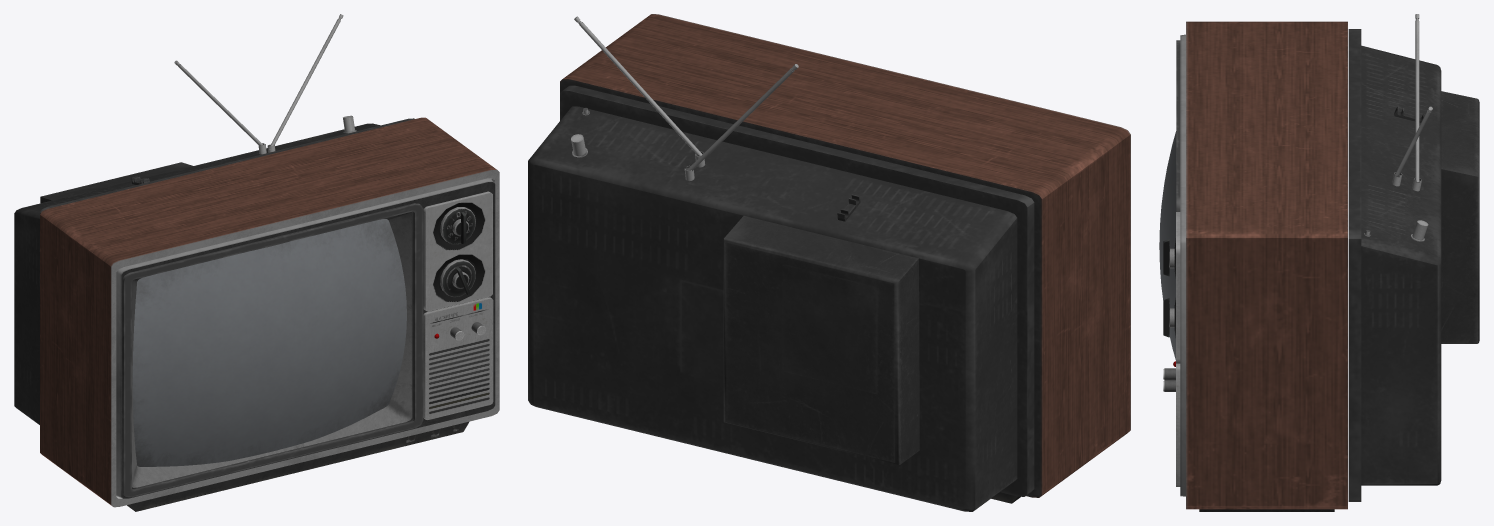
3 views of the same model, side by side, from view 1: azimuth 30°, elevation 25°; view 2: azimuth 150°, elevation 25°; view 3: azimuth 270°, elevation 25° (orthographic). The views are drawn at different scales.
Parts seen in each view (by area): view 1: TV, TV_TV_0.001; view 2: TV; view 3: TV, TV_TV_0.001.
Part boxes in pixels (left/top/right/bottom): TV: left=14, top=14, right=499, bottom=511; TV_TV_0.001: left=132, top=219, right=406, bottom=466; TV: left=528, top=14, right=1130, bottom=511; TV: left=1163, top=14, right=1479, bottom=511; TV_TV_0.001: left=1159, top=131, right=1176, bottom=359.
Bounding box in the file's own units: 3.67 × 3.15 × 2.32.
Materials: 1 (1 with a texture image).
